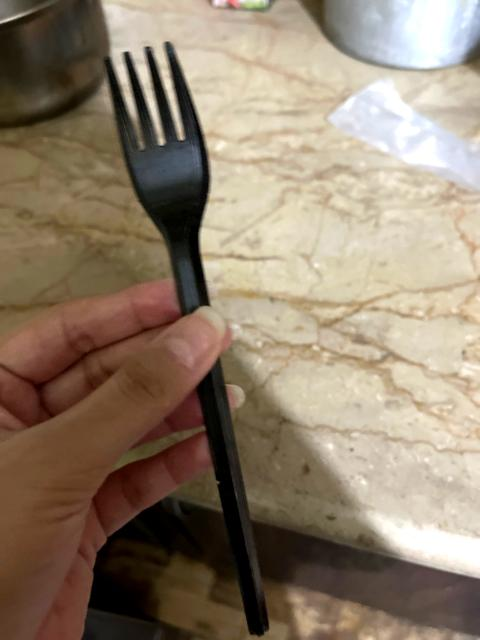Fork: (106, 43, 209, 314)
